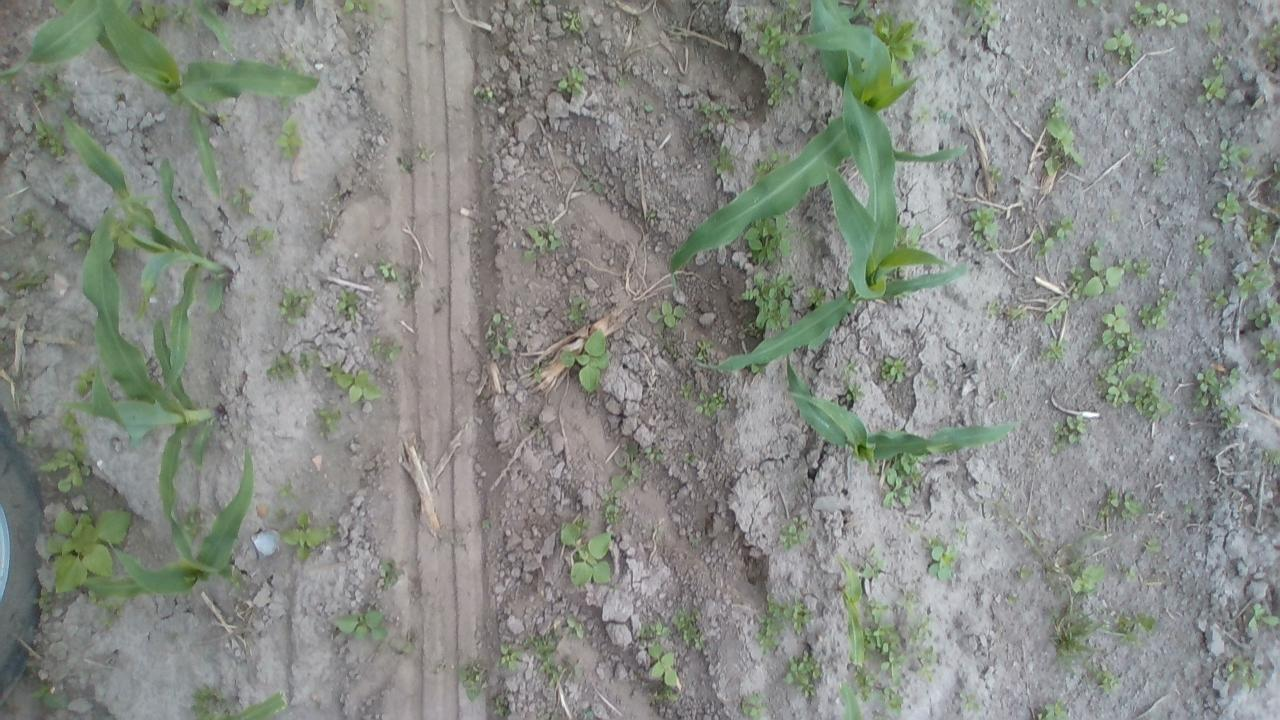Maize: (666, 0, 922, 276), (58, 201, 234, 566), (689, 159, 968, 373), (51, 101, 235, 399), (96, 0, 322, 197), (84, 447, 253, 604), (784, 359, 1020, 469), (0, 0, 104, 82), (830, 548, 870, 669), (232, 695, 286, 720), (842, 681, 862, 720)
Weeds: (991, 492, 1102, 596), (48, 505, 132, 596), (39, 411, 94, 490), (602, 445, 654, 520), (865, 602, 909, 689), (1094, 334, 1147, 405), (739, 266, 796, 330), (559, 518, 611, 588), (1050, 598, 1104, 665), (756, 594, 810, 656), (560, 329, 610, 393), (872, 11, 922, 70), (274, 509, 330, 560), (525, 626, 572, 684), (741, 3, 788, 60), (884, 454, 926, 510), (746, 215, 796, 262), (329, 362, 382, 403), (784, 650, 826, 700), (642, 643, 683, 693), (1044, 119, 1082, 172), (335, 610, 392, 642), (520, 224, 566, 263), (1135, 287, 1181, 326), (1134, 372, 1172, 419), (1080, 255, 1122, 296), (484, 308, 516, 360), (1048, 412, 1086, 454), (273, 284, 319, 318), (1236, 262, 1276, 298), (850, 664, 884, 706), (926, 538, 958, 580), (1192, 370, 1224, 412), (1101, 487, 1144, 518), (1224, 655, 1262, 690), (463, 659, 495, 700), (1100, 301, 1132, 342), (31, 684, 74, 714), (763, 66, 796, 104), (32, 72, 72, 103), (674, 610, 706, 648), (968, 205, 1000, 241), (962, 0, 998, 31), (1219, 138, 1253, 170), (34, 120, 64, 156), (775, 517, 815, 544), (278, 116, 304, 157), (694, 387, 728, 418), (95, 596, 126, 630), (1245, 209, 1276, 242), (752, 154, 791, 180), (1122, 608, 1154, 639), (879, 356, 913, 385), (1074, 564, 1104, 596), (1100, 28, 1132, 58), (648, 302, 688, 326), (192, 684, 220, 718), (1248, 601, 1280, 630), (1152, 2, 1187, 28), (248, 226, 278, 256), (140, 1, 171, 30), (1215, 192, 1243, 224), (1247, 303, 1280, 330), (1258, 18, 1280, 58), (314, 408, 346, 435), (266, 349, 292, 382), (905, 618, 934, 646), (370, 338, 400, 364), (559, 68, 589, 94), (882, 688, 908, 718), (1202, 72, 1228, 102), (632, 618, 669, 639), (11, 274, 43, 298), (495, 640, 518, 673), (562, 294, 590, 321), (230, 187, 260, 212), (739, 693, 769, 717), (896, 224, 926, 248), (696, 102, 732, 122), (230, 0, 272, 17), (183, 506, 208, 534), (861, 552, 886, 580), (1206, 16, 1226, 50), (1100, 664, 1124, 692), (986, 300, 1019, 320), (19, 207, 44, 232), (912, 646, 936, 672), (1193, 233, 1219, 257), (1044, 296, 1068, 322), (1260, 330, 1280, 361), (384, 559, 406, 586), (578, 168, 602, 192), (564, 616, 588, 640), (377, 259, 400, 284), (64, 170, 88, 193), (1130, 0, 1152, 25), (493, 691, 516, 714), (959, 689, 980, 714), (294, 349, 314, 375), (1051, 216, 1077, 236), (338, 290, 360, 312), (172, 4, 194, 26), (36, 587, 56, 610), (1219, 404, 1242, 424), (278, 481, 302, 500), (902, 592, 927, 610), (1207, 290, 1229, 310), (714, 150, 734, 172), (340, 0, 376, 12), (1040, 702, 1064, 720), (696, 340, 717, 360), (916, 105, 938, 124), (652, 690, 678, 706), (1143, 538, 1169, 554), (1042, 342, 1065, 360), (563, 8, 580, 32), (1152, 150, 1169, 174), (987, 164, 1009, 182), (806, 286, 826, 304), (471, 84, 496, 98), (1262, 450, 1280, 469), (849, 381, 866, 400), (1136, 260, 1152, 280), (904, 520, 922, 537), (278, 52, 296, 69), (682, 452, 701, 468), (1095, 69, 1110, 89), (678, 380, 692, 401), (1124, 562, 1138, 583), (1086, 240, 1106, 254), (1048, 98, 1062, 118), (1109, 207, 1125, 223), (1070, 282, 1086, 298), (1068, 264, 1084, 278), (1042, 238, 1058, 252), (1212, 53, 1226, 68), (416, 142, 426, 162), (1224, 369, 1237, 384), (1058, 64, 1070, 80), (1248, 166, 1264, 178), (1182, 499, 1194, 515), (957, 530, 970, 544), (1008, 85, 1022, 98), (1031, 229, 1043, 244), (845, 360, 861, 371), (1005, 592, 1017, 604), (646, 211, 656, 225), (1016, 564, 1026, 578), (1076, 0, 1098, 6), (996, 389, 1006, 402), (1124, 257, 1132, 272), (1274, 367, 1280, 378)
